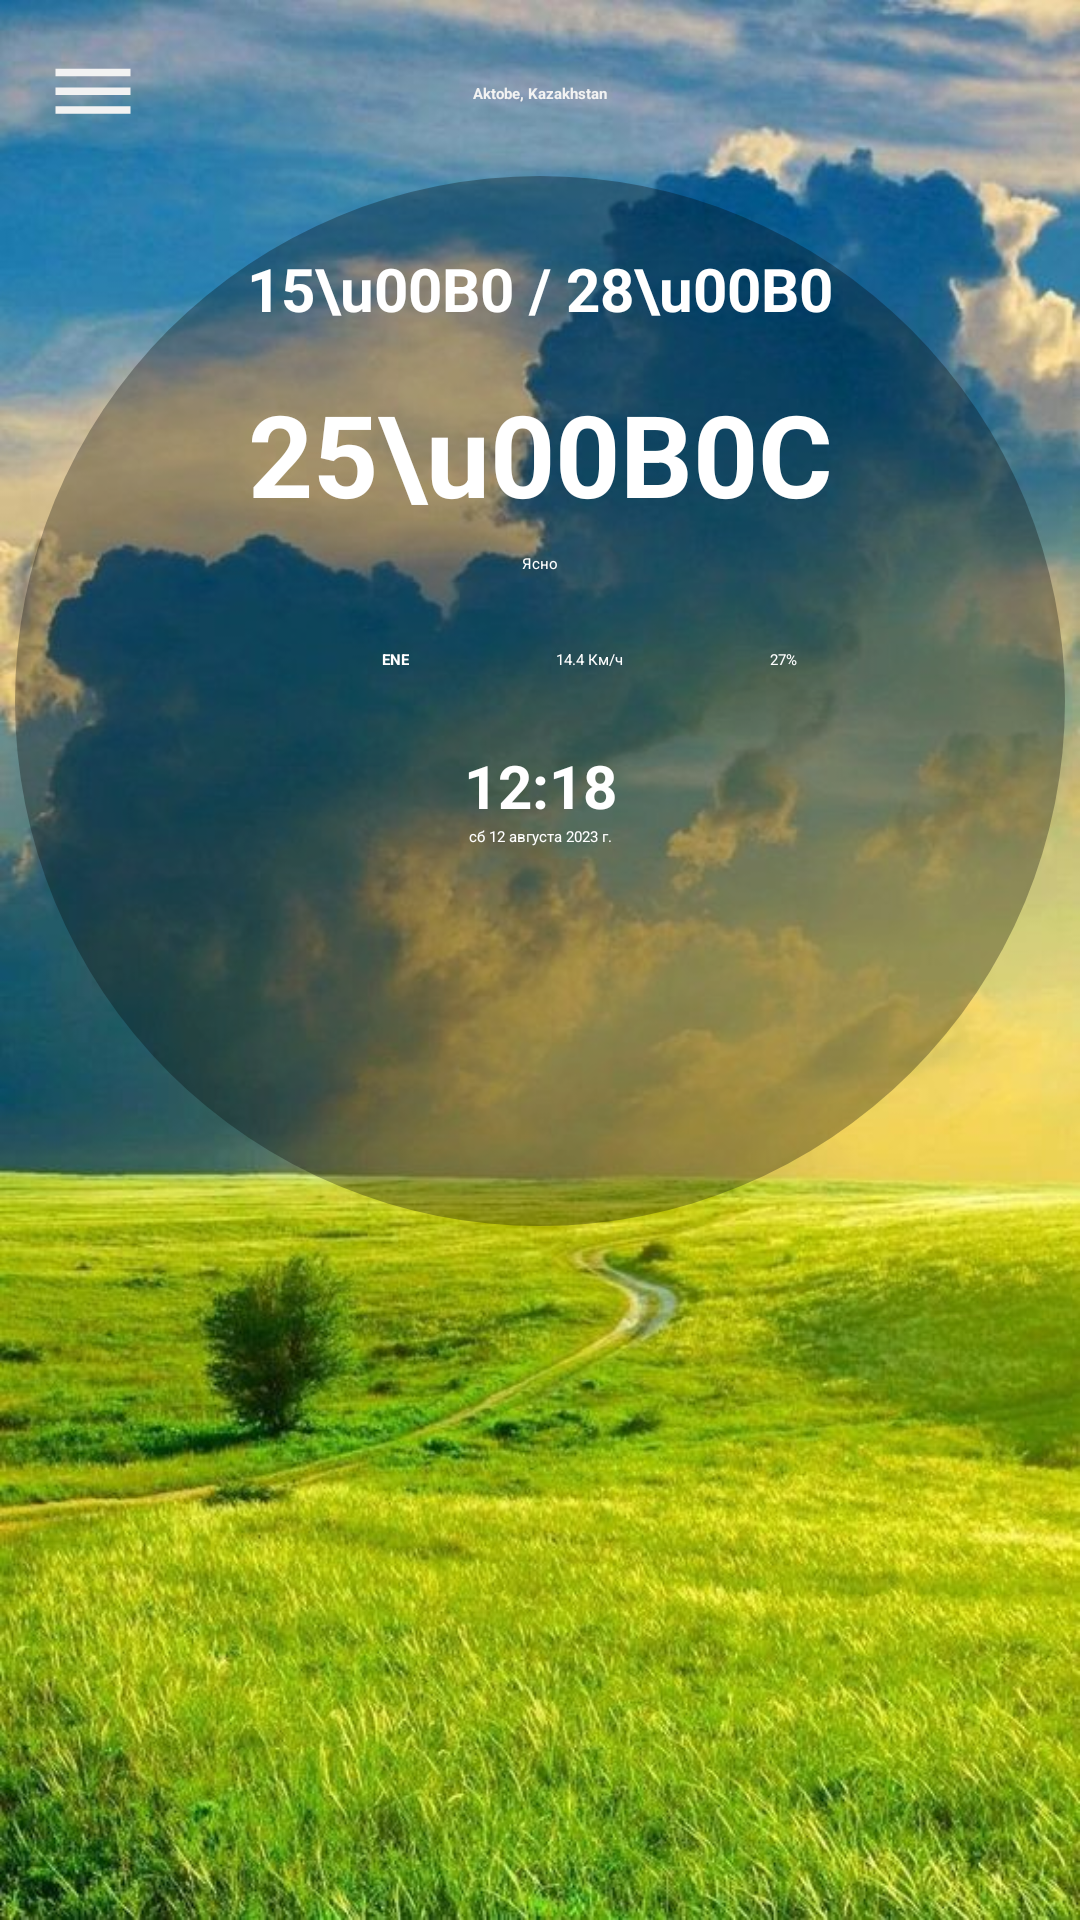

Where to tap for icons on this 1080×1920 app screen, as (x,y):
bar: (93,93)
